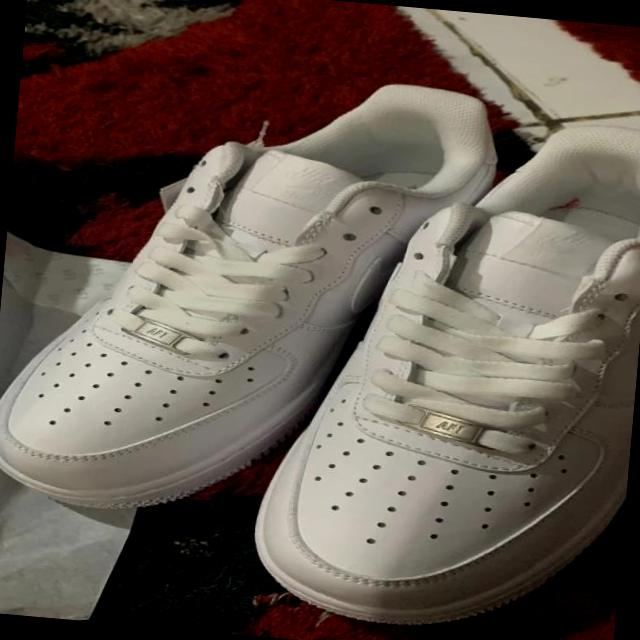nike_original_airforce: (0, 45, 504, 538), (237, 94, 640, 640)
